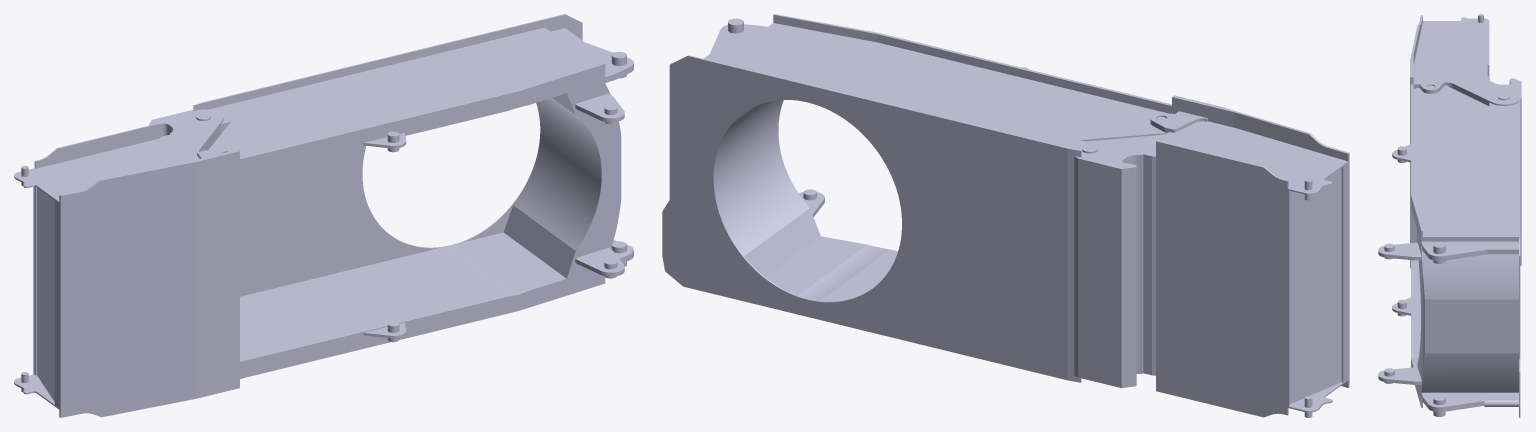
The model's file is MAIN_FRAME.obj.
The picture shows the model from 3 angles, left to right: view 1: azimuth 30°, elevation 25°; view 2: azimuth 150°, elevation 25°; view 3: azimuth 270°, elevation 25°; orthographic projection. The views are drawn at different scales.
Visible parts, largest first — view 1: SCX2000-3_FRAME_MAIN_WK_000_1-HSC_SCX2000-3_FRAME_MAIN020 (Meshe; view 2: SCX2000-3_FRAME_MAIN_WK_000_1-HSC_SCX2000-3_FRAME_MAIN020 (Meshe; view 3: SCX2000-3_FRAME_MAIN_WK_000_1-HSC_SCX2000-3_FRAME_MAIN020 (Meshe.
Part boxes in pixels (x1,y1,x2,y2): SCX2000-3_FRAME_MAIN_WK_000_1-HSC_SCX2000-3_FRAME_MAIN020 (Meshe: [14, 14, 633, 417]; SCX2000-3_FRAME_MAIN_WK_000_1-HSC_SCX2000-3_FRAME_MAIN020 (Meshe: [662, 14, 1349, 417]; SCX2000-3_FRAME_MAIN_WK_000_1-HSC_SCX2000-3_FRAME_MAIN020 (Meshe: [1378, 14, 1521, 417].
Size of the model in its own units: 7608 by 2870 by 1954.
